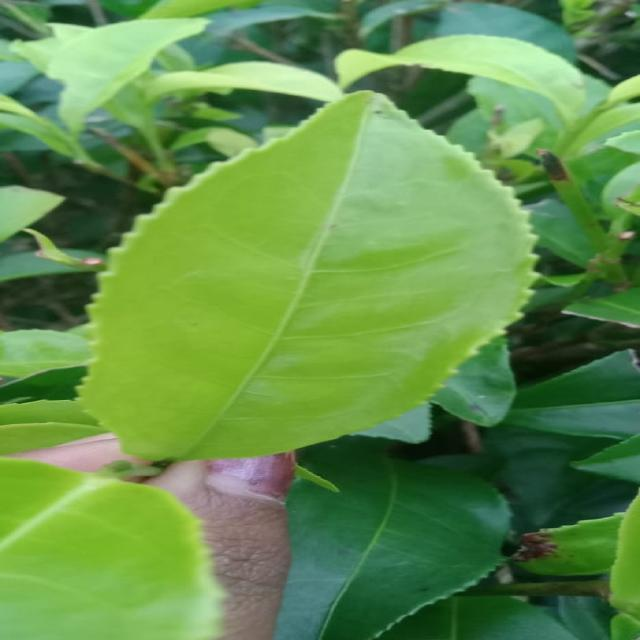Category B(2-4 days): (48, 92, 556, 462)
